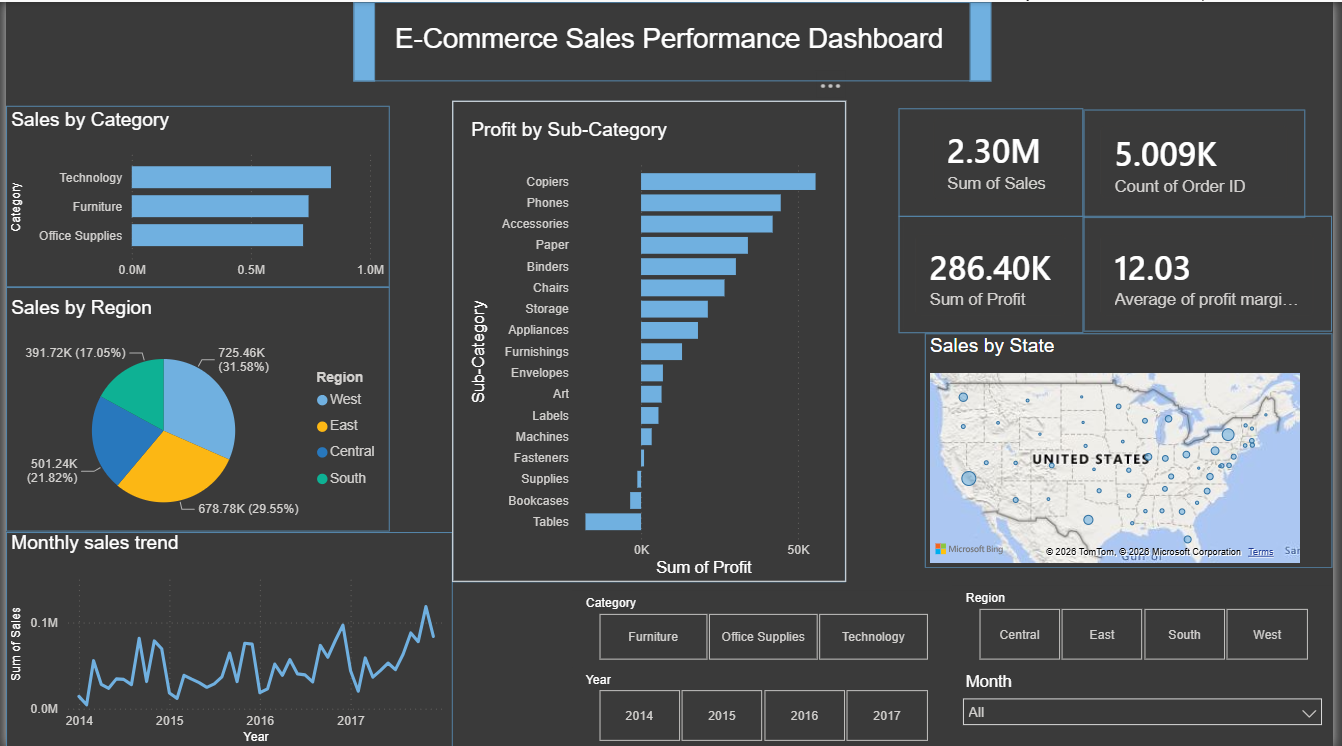

What the dashboard file says about the page in this screenshot:
{"tool":"powerbi","page":{"name":"Page 1","canvas":[1280,720],"ordinal":0},"visuals":[{"type":"cardVisual","fields":{"Data":["Sum(Sample - Superstore.Sales)"]},"box":[878.3,95.5,161.9,112.5],"z":0},{"type":"cardVisual","fields":{"Data":["Sum(Sample - Superstore.Profit)"]},"box":[861.4,207.6,179,113.1],"z":1},{"type":"cardVisual","fields":{"Data":["Count(Sample - Superstore.Order ID)"]},"box":[1039.9,102.8,214.1,104.9],"z":2},{"type":"cardVisual","fields":{"Data":["Avg(Sample - Superstore.profit margin %)"]},"box":[1040.4,207.6,239.9,113.1],"z":3},{"type":"clusteredBarChart","title":"Sales by Category","fields":{"Category":["Sample - Superstore.Category"],"Y":["Sum(Sample - Superstore.Sales)"]},"box":[0,102.8,370.5,172.4],"z":4},{"type":"pieChart","title":"Sales by Region","fields":{"Category":["Sample - Superstore.Region"],"Y":["Sum(Sample - Superstore.Sales)"]},"box":[0,284.9,370.5,226.2],"z":5},{"type":"lineChart","title":"Monthly sales trend","fields":{"Category":["Sample - Superstore.Order Date.Variation.Date Hierarchy.Year","Sample - Superstore.Order Date.Variation.Date Hierarchy.Month"],"Y":["Sum(Sample - Superstore.Sales)"]},"box":[0,511.1,431.7,209.1],"z":6},{"type":"clusteredBarChart","title":"Profit by Sub-Category","fields":{"Category":["Sample - Superstore.Sub-Category"],"Y":["Sum(Sample - Superstore.Profit)"]},"box":[443.9,112.5,366.8,447.6],"z":7},{"type":"map","title":"Sales by State","fields":{"Category":["Sample - Superstore.State"],"Size":["Sum(Sample - Superstore.Sales)"]},"box":[886.6,320.4,366.8,226.2],"z":8},{"type":"slicer","fields":{"Values":["Sample - Superstore.Region"]},"box":[913.5,563.7,366.8,78.3],"z":9},{"type":"slicer","fields":{"Values":["Sample - Superstore.Category"]},"box":[546.6,568.6,366.8,73.4],"z":10},{"type":"slicer","fields":{"Values":["Sample - Superstore.Order Date.Variation.Date Hierarchy.Year"]},"box":[546.6,642,366.8,78.3],"z":11},{"type":"slicer","fields":{"Values":["Sample - Superstore.Order Date.Variation.Date Hierarchy.Month"]},"box":[913.5,642,366.8,78.3],"z":12},{"type":"textbox","box":[0,0,1280.2,76.8],"z":13},{"type":"shape","box":[0,274.9,370.4,236.1],"z":14},{"type":"shape","box":[0,99.7,370.4,175.2],"z":15},{"type":"shape","box":[0,511,431.3,208.8],"z":16},{"type":"shape","box":[431.3,95.5,379.9,464.9],"z":17},{"type":"shape","box":[886.7,320.1,393.5,226.7],"z":18},{"type":"shape","box":[861.5,102.8,178.4,104.9],"z":20},{"type":"shape","box":[861.4,206.3,178.6,113.4],"z":21},{"type":"shape","box":[1040.4,206.3,239.9,111.9],"z":22},{"type":"shape","box":[1040.4,103.2,214.1,104.9],"z":23},{"type":"shape","box":[335.8,0,614.9,76.6],"z":24},{"type":"shape","box":[335.8,0,21,76.6],"z":25},{"type":"shape","box":[929.7,0,21,76.6],"z":26}]}

Visuals, with their boxes in screenshot pixels (x1, y1, x2, y2), scaled from the page's 1280x720 canvas onto the 1342x746 screenshot:
cardVisual - Sum(Sample - Superstore.Sales): [left=921, top=99, right=1091, bottom=216]
cardVisual - Sum(Sample - Superstore.Profit): [left=903, top=215, right=1091, bottom=332]
cardVisual - Count(Sample - Superstore.Order ID): [left=1090, top=107, right=1315, bottom=215]
cardVisual - Avg(Sample - Superstore.profit margin %): [left=1091, top=215, right=1341, bottom=332]
"Sales by Category" clusteredBarChart: [left=0, top=107, right=388, bottom=285]
"Sales by Region" pieChart: [left=0, top=295, right=388, bottom=530]
"Monthly sales trend" lineChart: [left=0, top=530, right=453, bottom=745]
"Profit by Sub-Category" clusteredBarChart: [left=465, top=117, right=850, bottom=580]
"Sales by State" map: [left=930, top=332, right=1314, bottom=566]
slicer - Sample - Superstore.Region: [left=958, top=584, right=1341, bottom=665]
slicer - Sample - Superstore.Category: [left=573, top=589, right=958, bottom=665]
slicer - Sample - Superstore.Order Date.Variation.Date Hierarchy.Year: [left=573, top=665, right=958, bottom=745]
slicer - Sample - Superstore.Order Date.Variation.Date Hierarchy.Month: [left=958, top=665, right=1341, bottom=745]
textbox: [left=0, top=0, right=1341, bottom=80]
shape: [left=0, top=285, right=388, bottom=529]
shape: [left=0, top=103, right=388, bottom=285]
shape: [left=0, top=529, right=452, bottom=745]
shape: [left=452, top=99, right=850, bottom=581]
shape: [left=930, top=332, right=1341, bottom=567]
shape: [left=903, top=107, right=1090, bottom=215]
shape: [left=903, top=214, right=1090, bottom=331]
shape: [left=1091, top=214, right=1341, bottom=330]
shape: [left=1091, top=107, right=1315, bottom=216]
shape: [left=352, top=0, right=997, bottom=79]
shape: [left=352, top=0, right=374, bottom=79]
shape: [left=975, top=0, right=997, bottom=79]
